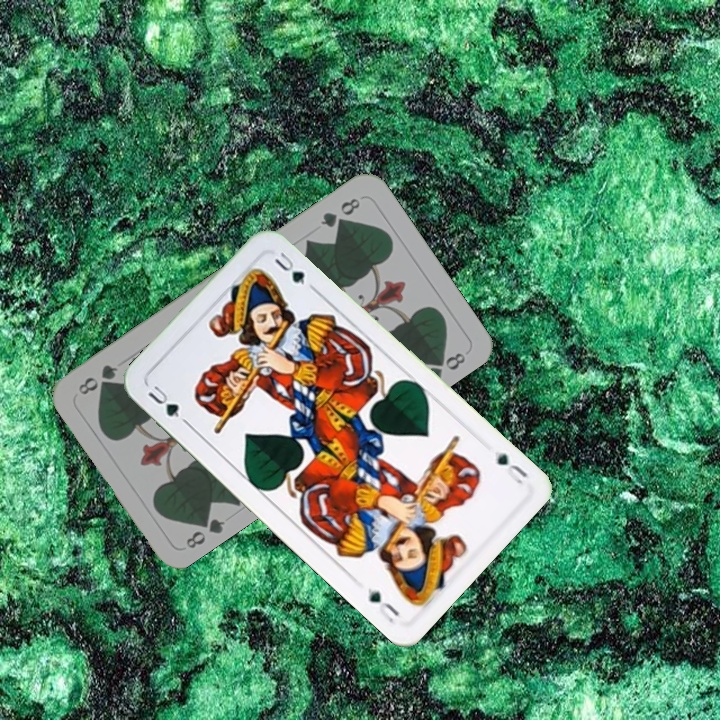G8: (181, 509, 228, 552), (316, 193, 363, 231)
GU: (490, 446, 530, 487), (143, 381, 182, 421)
